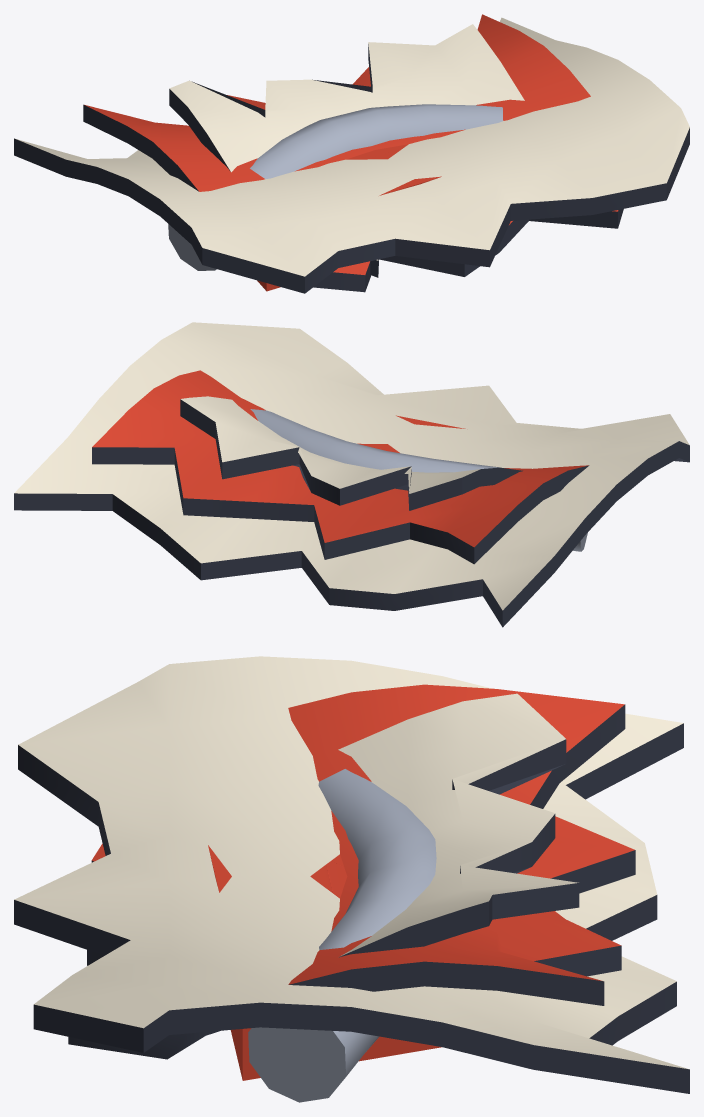
The model's file is debris.glb.
3 views of the same model, one above another, from view 1: azimuth 30°, elevation 25°; view 2: azimuth 150°, elevation 25°; view 3: azimuth 270°, elevation 25° (orthographic). The views are drawn at different scales.
Visible parts, largest first — view 1: Debris_2, Debris_0, Debris_1, Debris_4, Debris_3; view 2: Debris_2, Debris_1, Debris_0, Debris_4; view 3: Debris_2, Debris_1, Debris_0, Debris_4, Debris_3.
Boxes of the visible parts, bbox=[...] form: Debris_2: bbox=[14, 17, 689, 293]; Debris_0: bbox=[169, 24, 524, 277]; Debris_1: bbox=[83, 14, 623, 292]; Debris_4: bbox=[168, 104, 503, 270]; Debris_3: bbox=[257, 144, 441, 291]; Debris_2: bbox=[14, 322, 689, 627]; Debris_1: bbox=[92, 370, 589, 564]; Debris_0: bbox=[180, 396, 522, 510]; Debris_4: bbox=[250, 409, 587, 551]; Debris_2: bbox=[14, 656, 689, 1093]; Debris_1: bbox=[68, 684, 635, 1059]; Debris_0: bbox=[338, 693, 579, 957]; Debris_4: bbox=[248, 769, 436, 1102]; Debris_3: bbox=[208, 845, 441, 1080].
Bounding box in the file's own units: 0.75 × 0.1697 × 0.6187.
